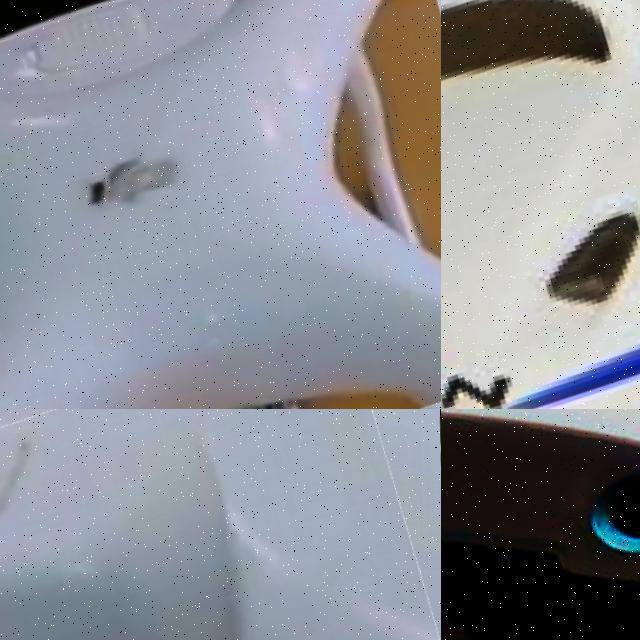drone: (0, 0, 441, 409), (0, 409, 441, 640), (441, 0, 640, 409), (441, 409, 640, 640)
